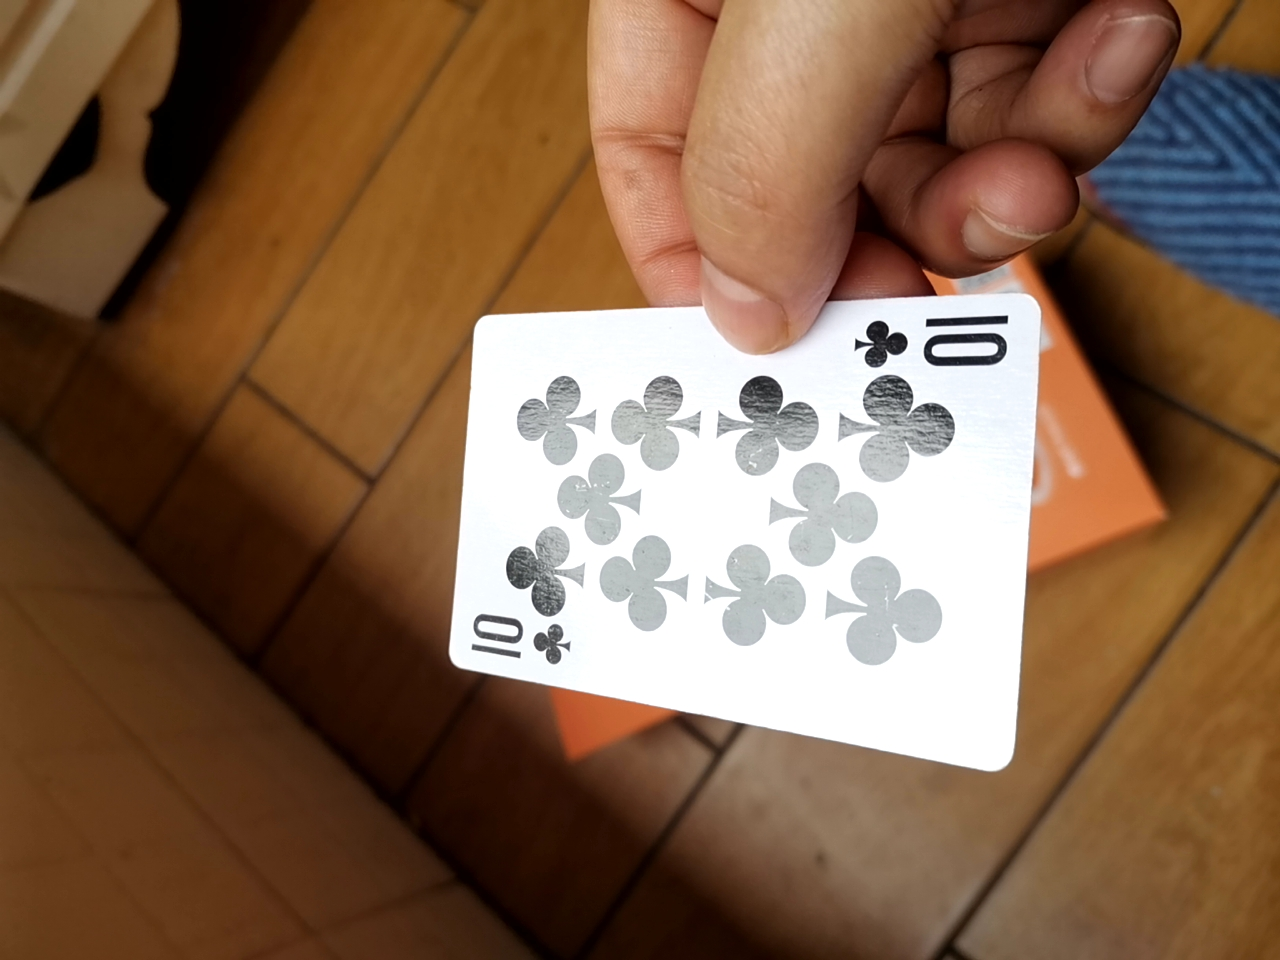mh 10: (446, 288, 1044, 763)
